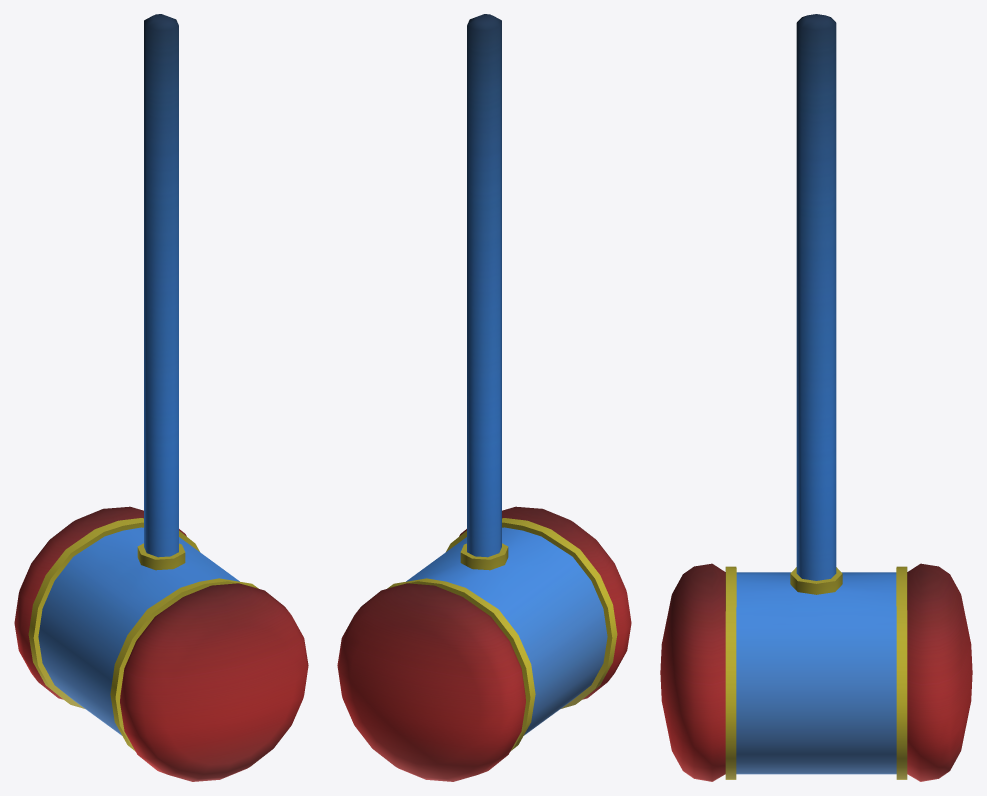
File: hammer.fbx
3 views of the same model, side by side, from view 1: azimuth 30°, elevation 25°; view 2: azimuth 150°, elevation 25°; view 3: azimuth 270°, elevation 25° (orthographic). The views are drawn at different scales.
Visible parts, largest first — view 1: Cube; view 2: Cube; view 3: Cube.
Part boxes in pixels (x1,y1,x2,y2): Cube: [14, 14, 308, 781]; Cube: [337, 14, 631, 781]; Cube: [660, 14, 972, 781].
Bounding box in the file's own units: 215 × 814 × 305.
